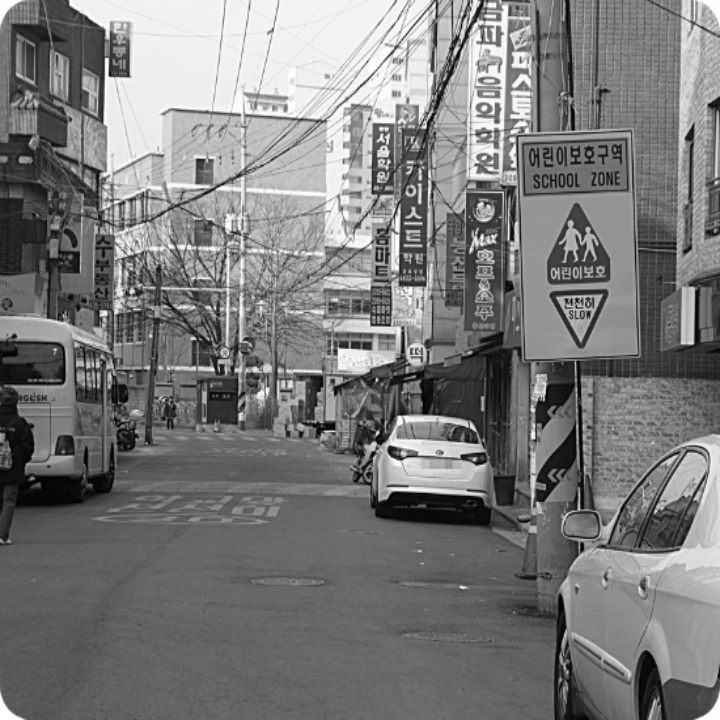child: (548, 211, 605, 264)
